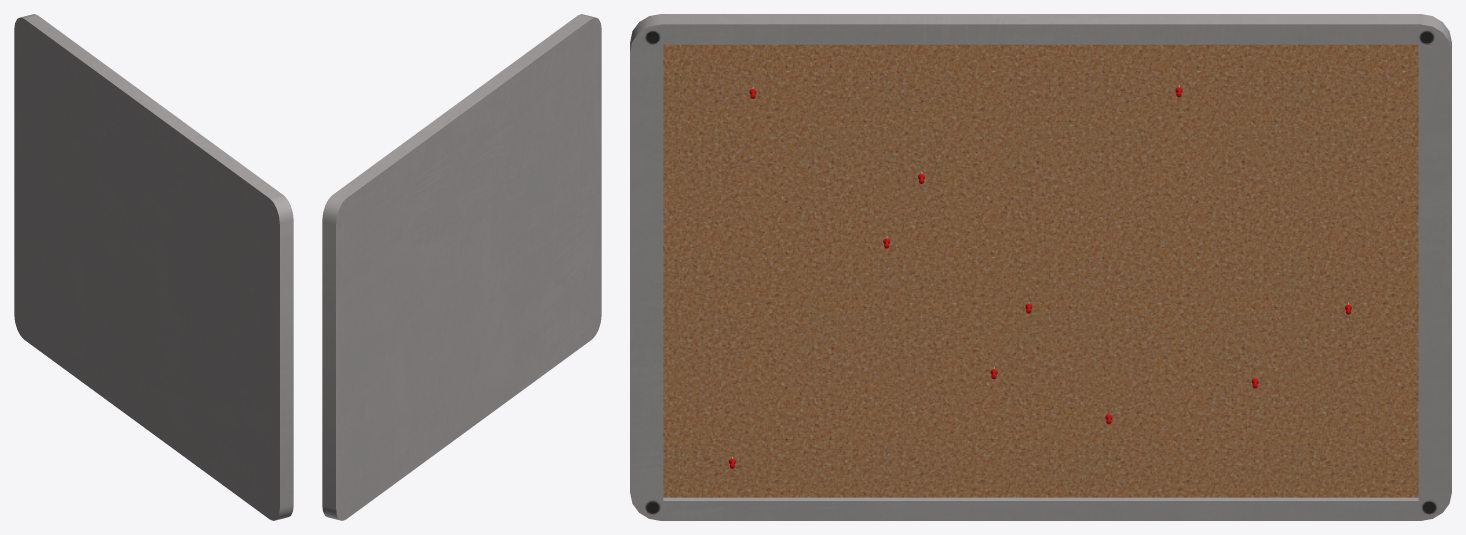
File: corkboard.glb
The picture shows the model from 3 angles, left to right: view 1: azimuth 30°, elevation 25°; view 2: azimuth 150°, elevation 25°; view 3: azimuth 270°, elevation 25°; orthographic projection. The views are drawn at different scales.
Parts seen in each view (by area): view 1: SM_notice_board; view 2: SM_notice_board; view 3: SM_notice_board.
Boxes of the visible parts, box(x1,y1,x2,y2) form: SM_notice_board: box(14, 14, 293, 520); SM_notice_board: box(322, 14, 601, 520); SM_notice_board: box(630, 14, 1451, 520).
Size of the model in its own units: 4.3 by 60 by 90.
1 material, 1 textured.
